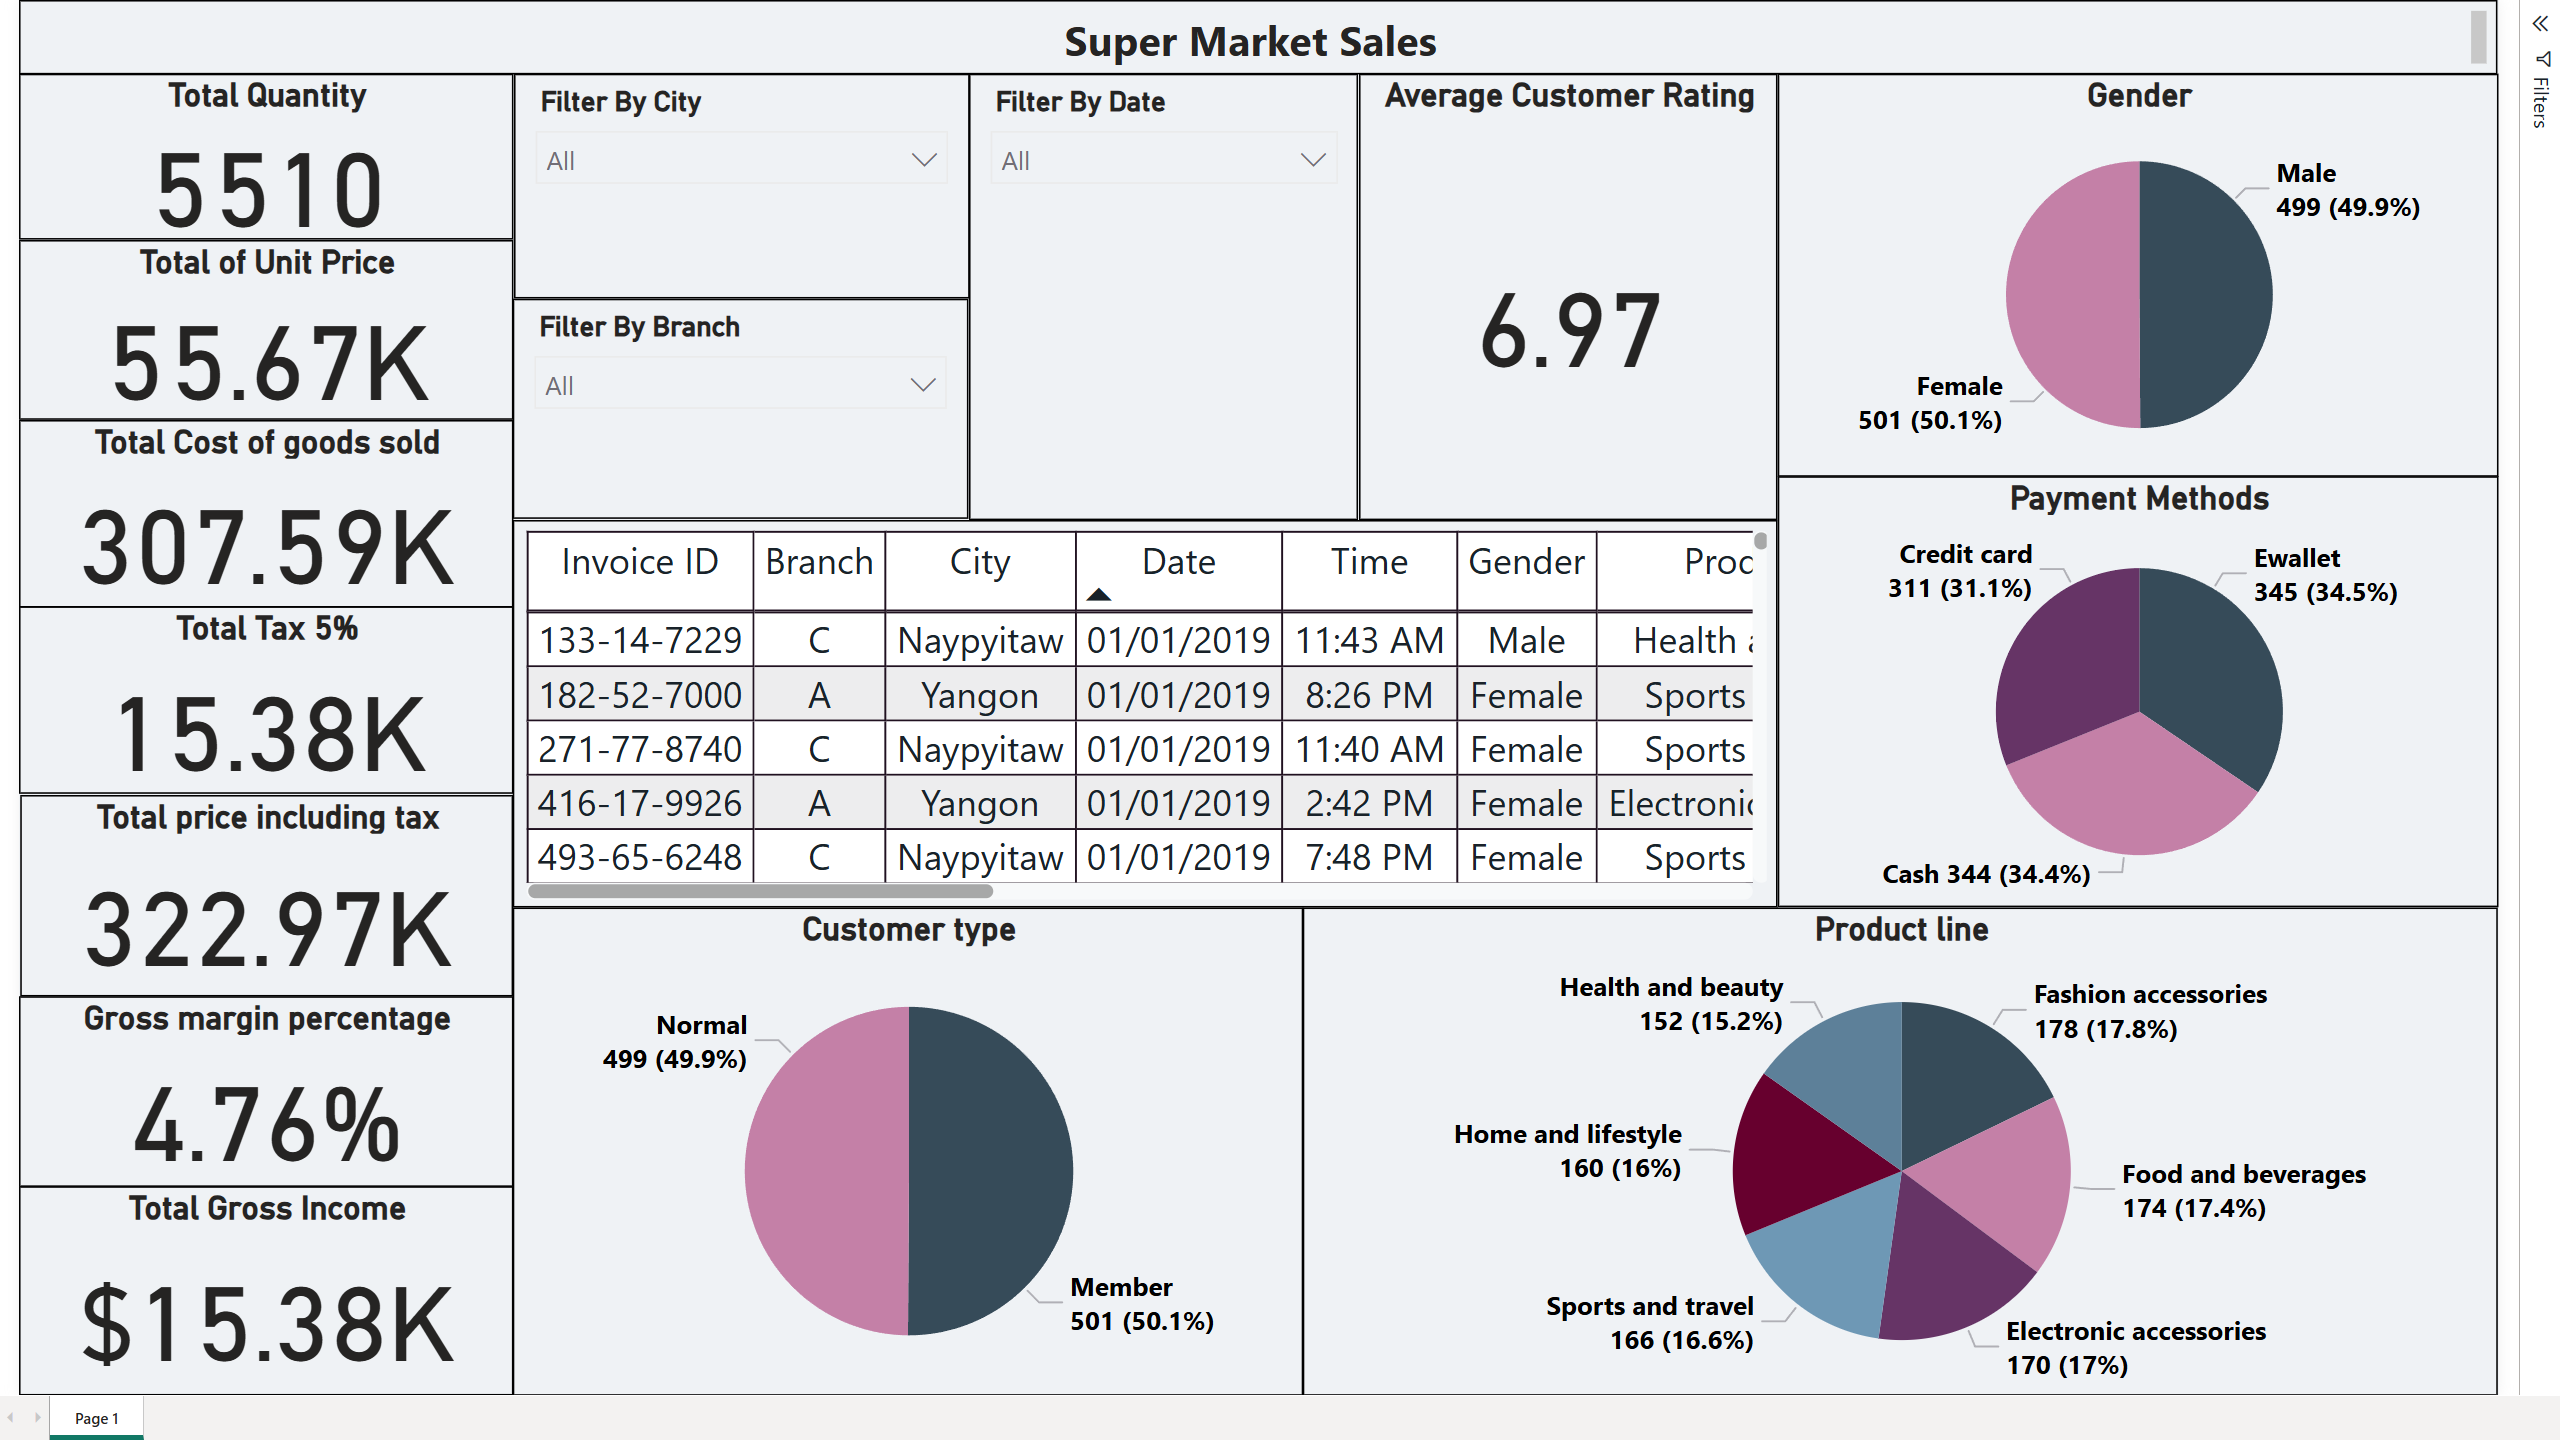

What the dashboard file says about the page in this screenshot:
{"tool":"powerbi","page":{"name":"Page 1","canvas":[1280,720],"ordinal":0},"visuals":[{"type":"pieChart","title":" Gender","fields":{"Category":["Supermarket Sales.Gender"],"Y":["Supermarket Sales.Measure"]},"box":[907.9,38.2,372.1,207.7],"z":0},{"type":"card","title":"Total Quantity","fields":{"Values":["Sum(Supermarket Sales.Quantity)"]},"box":[0,38.2,255,85.6],"z":1000},{"type":"pieChart","title":"Product line","fields":{"Category":["Supermarket Sales.Product line"],"Y":["Supermarket Sales.Measure 2"]},"box":[662.9,468.5,617.2,251.7],"z":2000},{"type":"pieChart","title":"Payment Methods","fields":{"Category":["Supermarket Sales.Payment"],"Y":["Supermarket Sales.Measure 3"]},"box":[907.9,245.9,372.1,222.6],"z":3000},{"type":"card","title":"Total of Unit Price","fields":{"Values":["Sum(Supermarket Sales.Unit price)"]},"box":[0,123.8,255,93],"z":4000},{"type":"card","title":"Total Cost of goods sold","fields":{"Values":["Sum(Supermarket Sales.cogs)"]},"box":[0,216.8,255,97.2],"z":5000},{"type":"pieChart","title":"Customer type","fields":{"Category":["Supermarket Sales.Customer type"],"Y":["Supermarket Sales.Measure 4"]},"box":[255,468.5,407.8,251.7],"z":6000},{"type":"card","title":"Total Gross Income","fields":{"Values":["Sum(Supermarket Sales.gross income)"]},"box":[0,612.2,255,108],"z":7000},{"type":"card","title":"Gross margin percentage","fields":{"Values":["Min(Supermarket Sales.gross margin percentage)"]},"box":[0,514.2,255,98],"z":8000},{"type":"card","title":"Total Tax 5%","fields":{"Values":["Sum(Supermarket Sales.Tax 5%)"]},"box":[0,313.2,255,97.2],"z":9000},{"type":"card","title":"Total price including tax","fields":{"Values":["Sum(Supermarket Sales.Total)"]},"box":[0.8,410.3,254.2,103.8],"z":10000},{"type":"card","title":"Average Customer Rating","fields":{"Values":["Avg(Supermarket Sales.Rating)"]},"box":[691.3,37.8,216.3,230.4],"z":11000},{"type":"tableEx","fields":{"Values":["Supermarket Sales.Invoice ID","Supermarket Sales.Branch","Supermarket Sales.City","Supermarket Sales.Date Hierarchy.Date","Supermarket Sales.Time","Supermarket Sales.Gender","Supermarket Sales.Product line","Supermarket Sales.Payment","Supermarket Sales.Customer type","Sum(Supermarket Sales.Quantity)","Sum(Supermarket Sales.Unit price)","Sum(Supermarket Sales.Tax 5%)"]},"box":[255,268.3,652.9,200.2],"z":12000},{"type":"textbox","box":[0,0,1279.5,38.1],"z":13000},{"type":"slicer","title":"Filter By Date","fields":{"Values":["Supermarket Sales.Date Hierarchy.Date"]},"box":[490.1,38.2,201,230.1],"z":14000},{"type":"slicer","fields":{"Values":["Supermarket Sales.City"]},"box":[255.2,37.8,235.2,115.8],"z":15000},{"type":"slicer","fields":{"Values":["Supermarket Sales.Branch"]},"box":[255,154.5,235.1,113.8],"z":16000}]}

Visuals, with their boxes in screenshot pixels (x1, y1, x2, y2):
" Gender" pieChart: left=1767, top=73, right=2475, bottom=468
"Total Quantity" card: left=40, top=73, right=525, bottom=236
"Product line" pieChart: left=1301, top=891, right=2475, bottom=1370
"Payment Methods" pieChart: left=1767, top=468, right=2475, bottom=891
"Total of Unit Price" card: left=40, top=236, right=525, bottom=412
"Total Cost of goods sold" card: left=40, top=412, right=525, bottom=597
"Customer type" pieChart: left=525, top=891, right=1301, bottom=1370
"Total Gross Income" card: left=40, top=1165, right=525, bottom=1370
"Gross margin percentage" card: left=40, top=978, right=525, bottom=1165
"Total Tax 5%" card: left=40, top=596, right=525, bottom=781
"Total price including tax" card: left=42, top=781, right=525, bottom=978
"Average Customer Rating" card: left=1355, top=72, right=1767, bottom=510
tableEx - Supermarket Sales.Invoice ID x Supermarket Sales.Branch: left=525, top=510, right=1767, bottom=891
textbox: left=40, top=0, right=2474, bottom=72
"Filter By Date" slicer: left=972, top=73, right=1355, bottom=510
slicer - Supermarket Sales.City: left=526, top=72, right=973, bottom=292
slicer - Supermarket Sales.Branch: left=525, top=294, right=972, bottom=510
